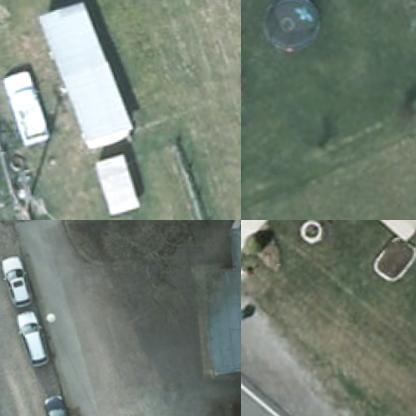camping car: (29, 0, 125, 152)
car: (0, 66, 45, 148), (0, 254, 31, 308), (12, 312, 44, 362), (34, 394, 73, 415)
